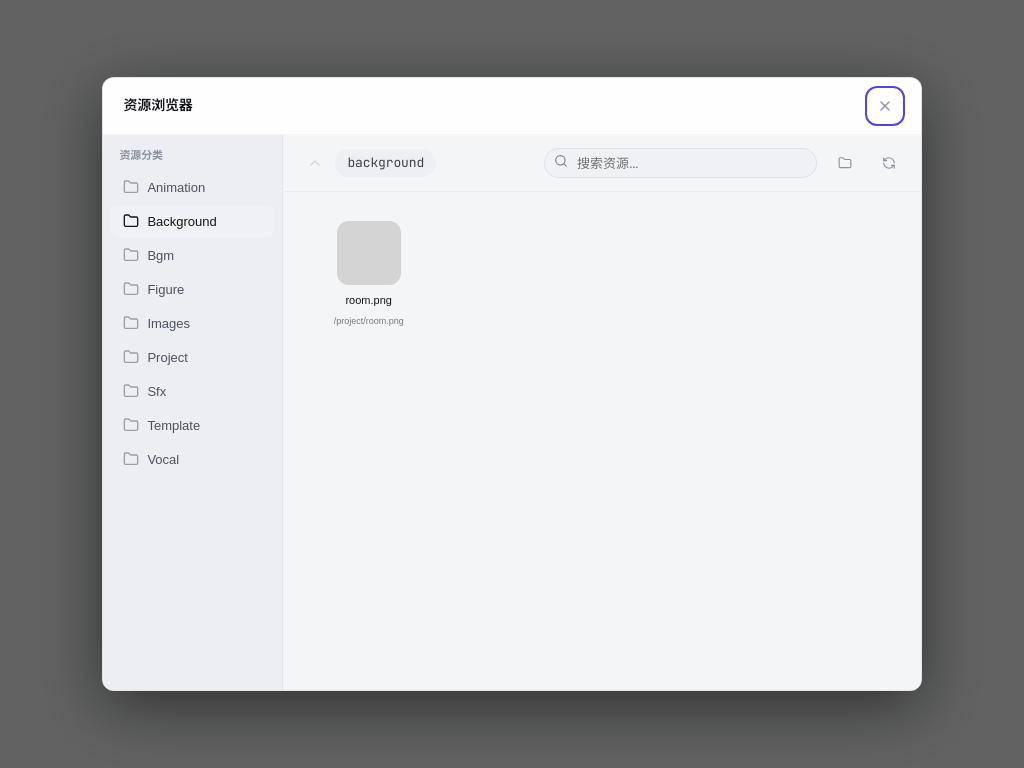
Scenario: Resource entry points › keeps file-manager errors visible inside the modal and permits retry
Expected: the button "room.png /project/room.png" is shown, [299,208,439,341]
Click the button named "打开当前资源文件夹" at (845, 163), box [829,147,861,179]
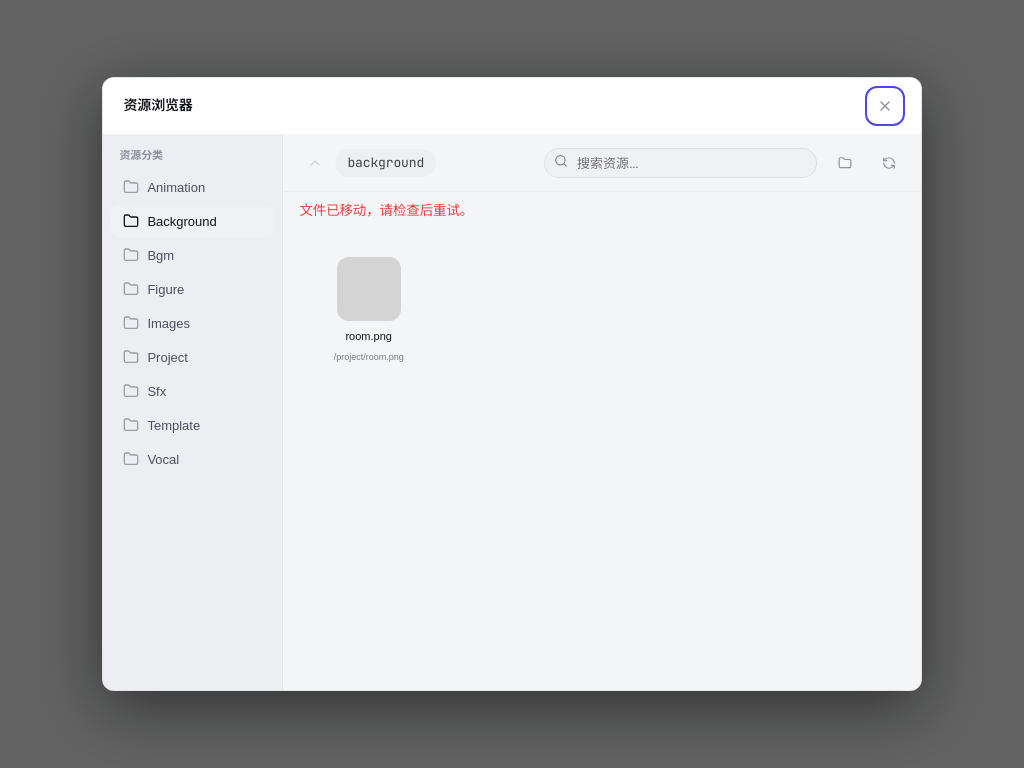
Expected: the button "room.png /project/room.png" is shown, [299,244,439,377]
Expected: the message shows "文件已移动", [299,201,473,219]
Click the button named "打开当前资源文件夹" at (845, 163), box [829,147,861,179]
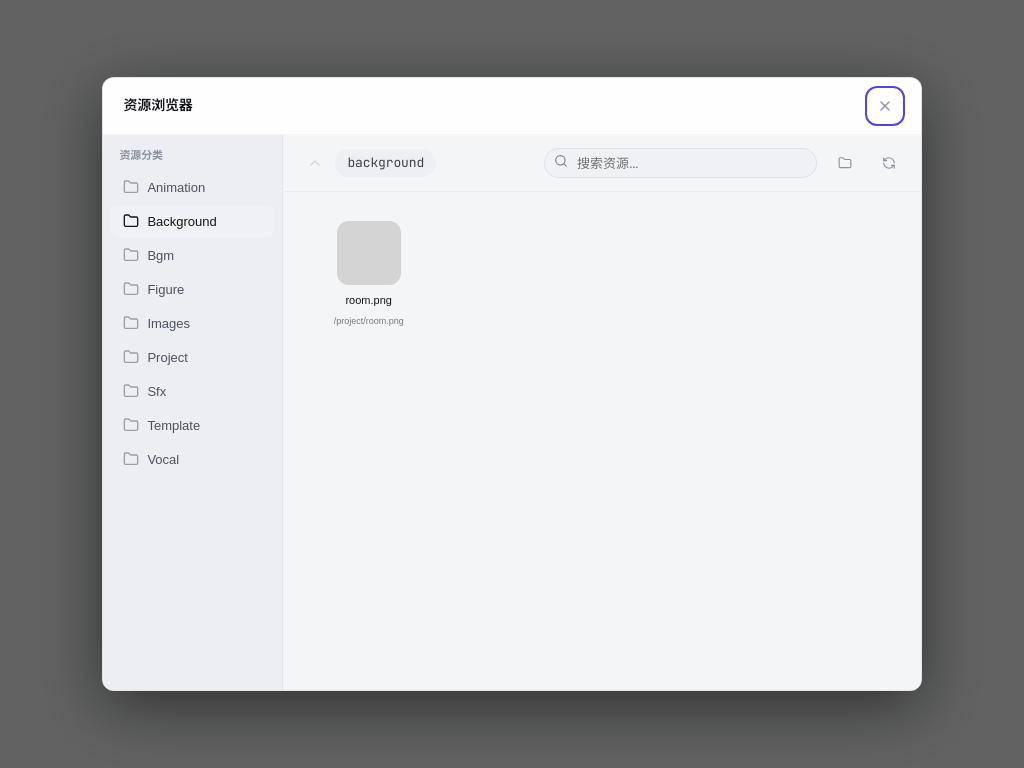
Expected: the message "文件已移动，请检查后重试。" is gone
